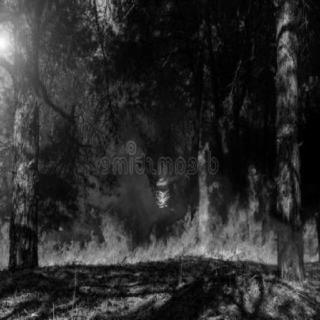Fire: (2, 120, 320, 282)
other: (2, 10, 44, 64)
